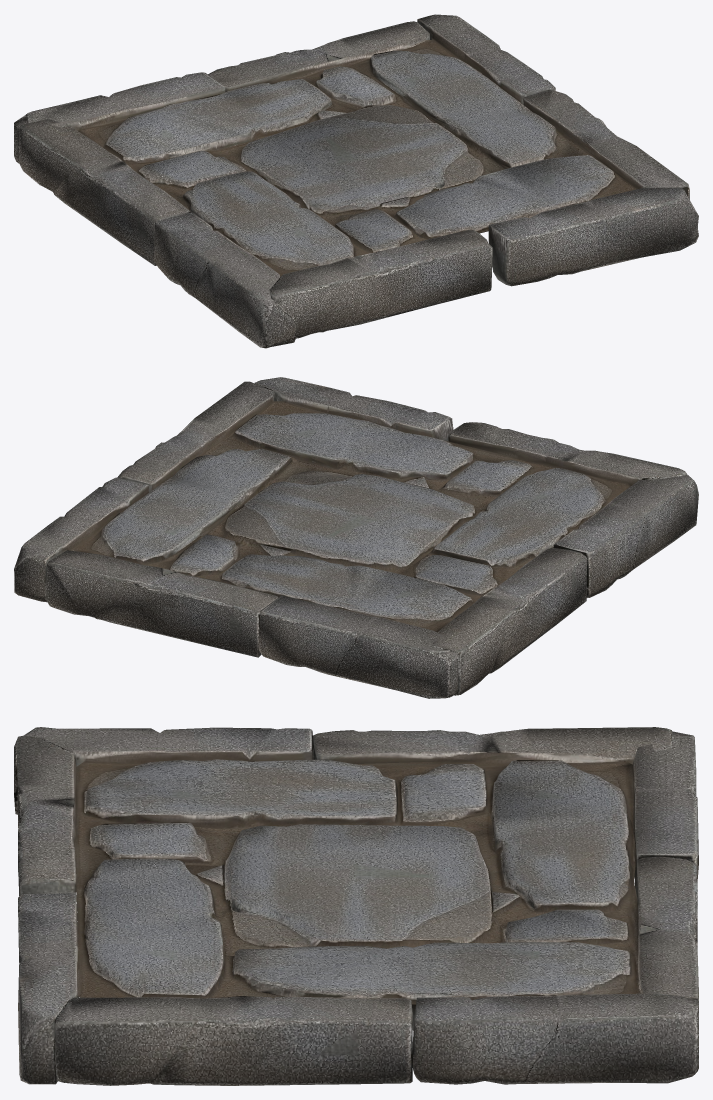
The model's file is tripo_convert_67c667b3-bca4-4f6d-89ba-4c4a4e55f6f8.fbx.
3 views of the same model, one above another, from view 1: azimuth 30°, elevation 25°; view 2: azimuth 150°, elevation 25°; view 3: azimuth 270°, elevation 25° (orthographic). The views are drawn at different scales.
Visible parts, largest first — view 1: tripo_node_67c667b3; view 2: tripo_node_67c667b3; view 3: tripo_node_67c667b3.
Part boxes in pixels (x1,y1,x2,y2): tripo_node_67c667b3: (14,14,698,348); tripo_node_67c667b3: (14,377,698,698); tripo_node_67c667b3: (14,727,698,1085).
Bounding box in the file's own units: 0.998 × 0.1152 × 0.9863.
Materials: 1 (1 with a texture image).
